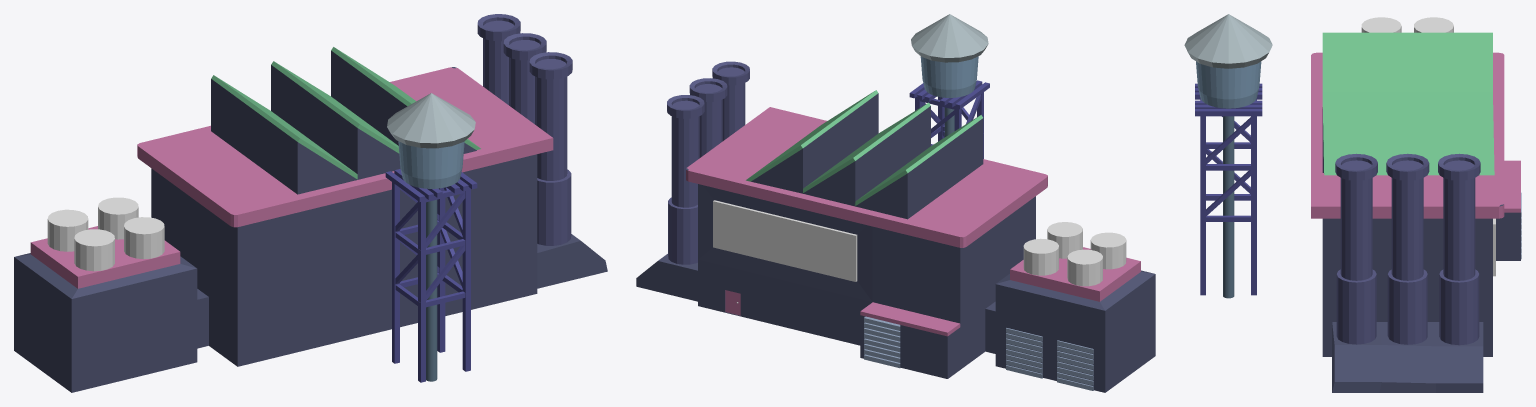
The model's file is fabriek1_V1.fbx.
The picture shows the model from 3 angles, left to right: view 1: azimuth 30°, elevation 25°; view 2: azimuth 150°, elevation 25°; view 3: azimuth 270°, elevation 25°; orthographic projection. The views are drawn at different scales.
Parts seen in each view (by area): view 1: facotry, pool1, Circle, Cone, Cylinder, Cylinder.001; view 2: facotry, garage door.002, Circle, Cone, Cylinder, pool1; view 3: facotry, pool1, Cone, Cylinder, Cylinder.001, Circle.
Part boxes in pixels (left/top/right/bottom): facotry: left=14, top=14, right=607, bottom=392; pool1: left=385, top=169, right=477, bottom=382; Circle: left=47, top=197, right=164, bottom=271; Cone: left=387, top=93, right=475, bottom=148; Cylinder: left=398, top=141, right=464, bottom=188; Cylinder.001: left=426, top=199, right=437, bottom=381; facotry: left=636, top=61, right=1155, bottom=392; garage door.002: left=864, top=316, right=1093, bottom=390; Circle: left=1023, top=222, right=1126, bottom=286; Cone: left=911, top=14, right=988, bottom=62; Cylinder: left=920, top=56, right=978, bottom=97; pool1: left=909, top=80, right=989, bottom=158; facotry: left=1311, top=32, right=1520, bottom=392; pool1: left=1195, top=83, right=1262, bottom=295; Cone: left=1184, top=14, right=1272, bottom=68; Cylinder: left=1196, top=61, right=1261, bottom=108; Cylinder.001: left=1223, top=116, right=1234, bottom=298; Circle: left=1361, top=17, right=1453, bottom=32.
Size of the model in its own units: 2098 by 1090 by 1180.
